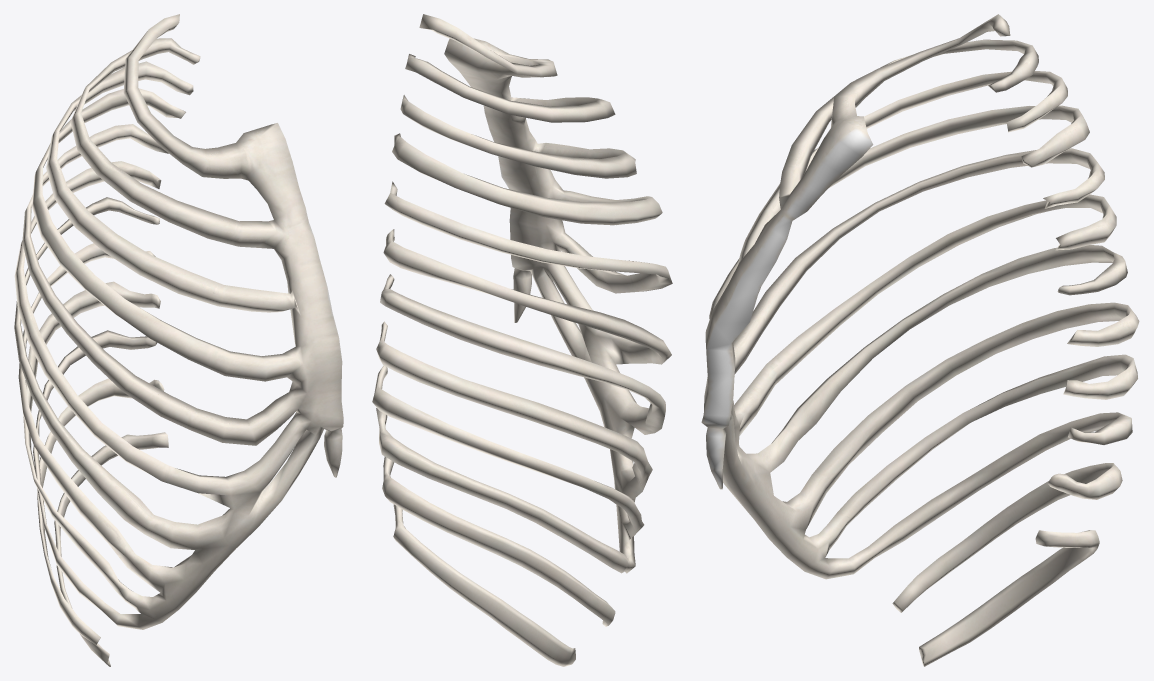
Rendered from HalfThorax.FBX.
3 views of the same model, side by side, from view 1: azimuth 30°, elevation 25°; view 2: azimuth 150°, elevation 25°; view 3: azimuth 270°, elevation 25° (orthographic). The views are drawn at different scales.
Visible parts, largest first — view 1: HalfThotax; view 2: HalfThotax; view 3: HalfThotax.
Part boxes in pixels (x1,y1,x2,y2): HalfThotax: [14, 14, 343, 666]; HalfThotax: [372, 14, 672, 666]; HalfThotax: [701, 14, 1139, 666].
Bounding box in the file's own units: 121 × 191 × 337.
